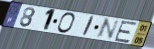1: (43, 9, 57, 33)
8: (19, 8, 36, 28)
E: (113, 20, 139, 44)
I: (80, 15, 96, 37)
N: (94, 17, 121, 40)
O: (56, 12, 77, 35)
